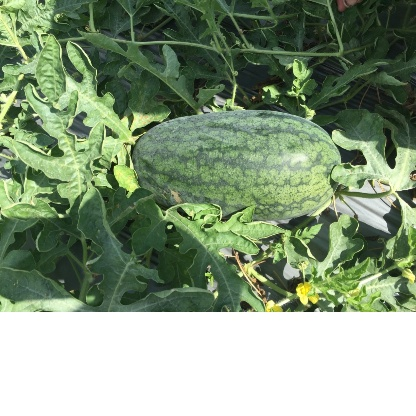duahau: (132, 102, 341, 245)
